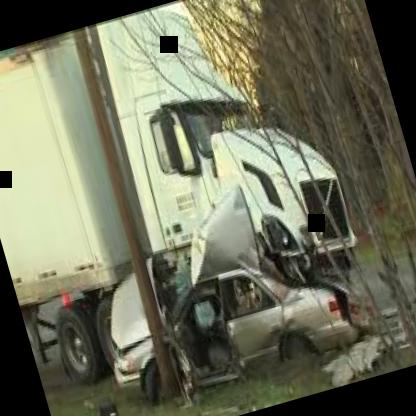accident: (2, 0, 405, 416)
